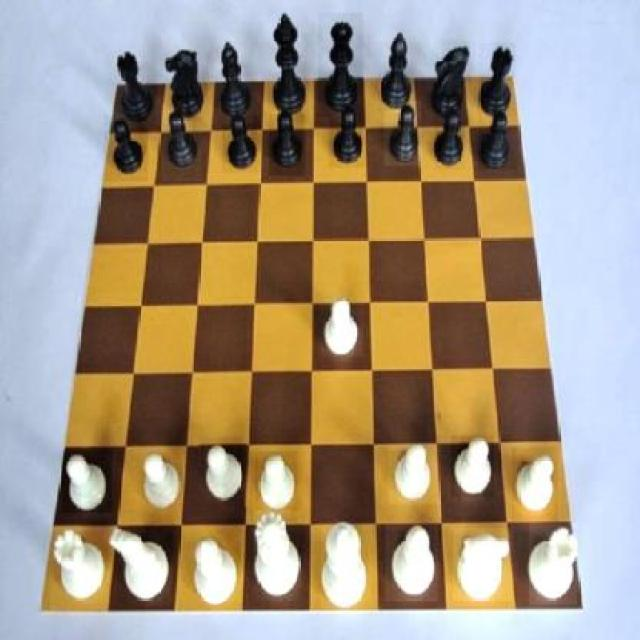bishop: (217, 40, 255, 124), (382, 32, 412, 112)
black-bishop: (268, 8, 308, 114)
black-king: (434, 39, 471, 122), (167, 43, 206, 120)
black-knight: (104, 116, 148, 182), (162, 111, 202, 180), (478, 104, 518, 170), (384, 101, 422, 168), (270, 111, 306, 177), (329, 106, 365, 169), (222, 115, 259, 173), (434, 103, 464, 170)
black-pawn: (319, 14, 363, 118)
black-queen: (112, 46, 158, 129), (480, 43, 517, 117)
black-rook: (384, 524, 438, 602), (191, 531, 241, 607)
white-bishop: (320, 520, 372, 612)
white-king: (109, 522, 172, 606), (454, 529, 514, 602)
white-knight: (512, 448, 558, 522), (200, 438, 248, 508), (134, 450, 184, 514), (63, 451, 113, 514), (388, 444, 440, 504), (451, 435, 494, 498), (256, 451, 298, 511), (318, 303, 362, 357)
white-pawn: (254, 511, 300, 601)
white-queen: (50, 529, 111, 612), (529, 523, 577, 605)
